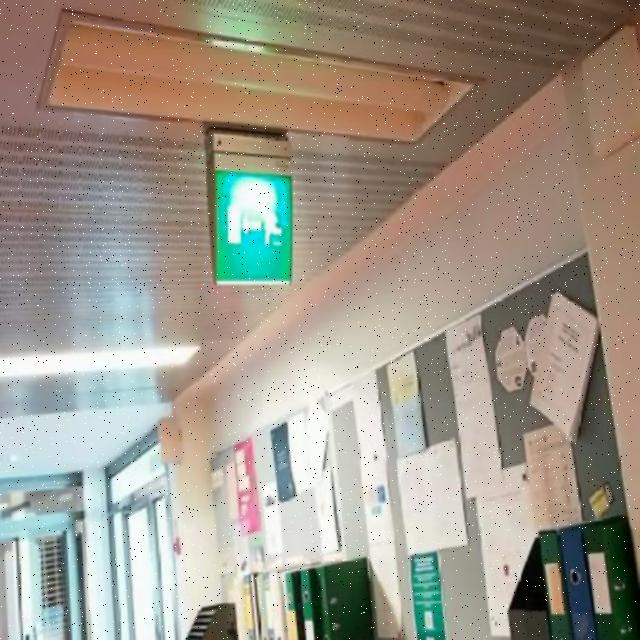emergency_exit: (212, 167, 294, 286)
